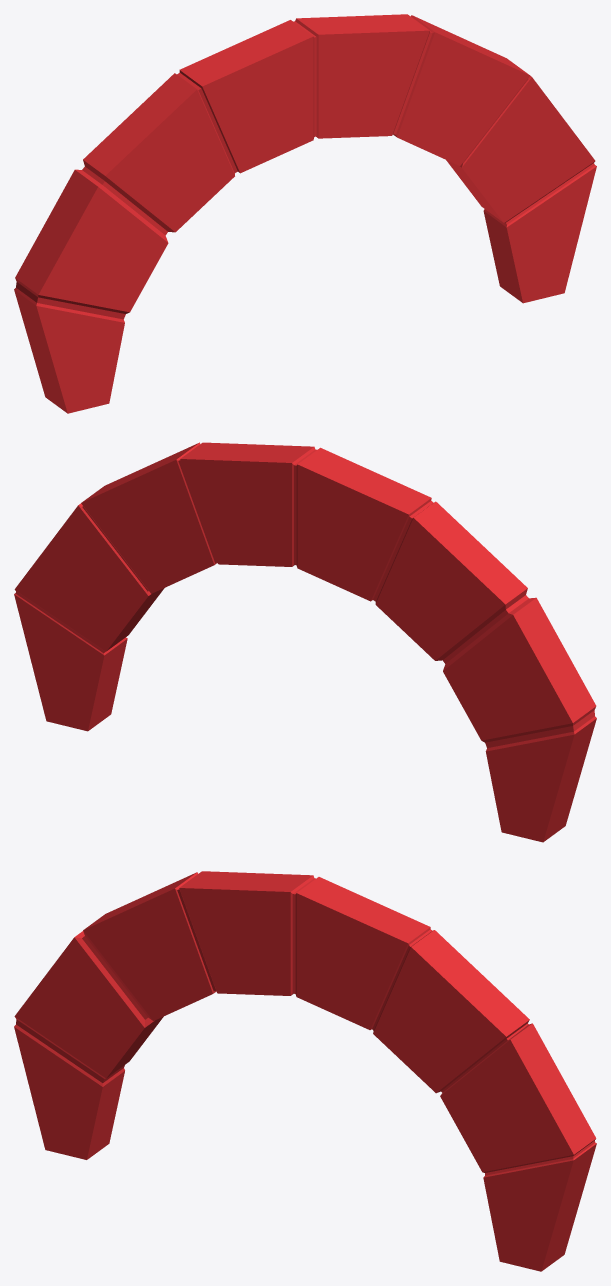
The model's file is 红砖拱门.fbx.
The picture shows the model from 3 angles, top to bottom: view 1: azimuth 30°, elevation 25°; view 2: azimuth 150°, elevation 25°; view 3: azimuth 330°, elevation 25°; orthographic projection.
Parts seen in each view (by area): view 1: Stoneround; view 2: Stoneround; view 3: Stoneround.
Boxes of the visible parts, left/top/right/bottom form: Stoneround: left=14, top=14, right=596, bottom=413; Stoneround: left=14, top=442, right=596, bottom=842; Stoneround: left=14, top=871, right=596, bottom=1271.
Bounding box in the file's own units: 278 × 151 × 20.46.
